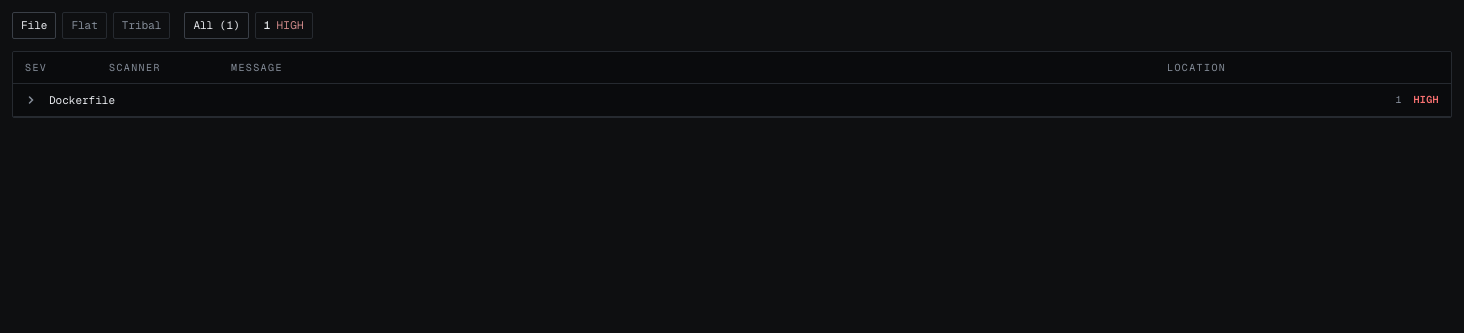
Test case: FindingsTable source context › explains file-scoped tribal findings
Step 1. Click the button "Dockerfile 1 HIGH" → {"x": 82, "y": 100}, box [13,84,1451,117]
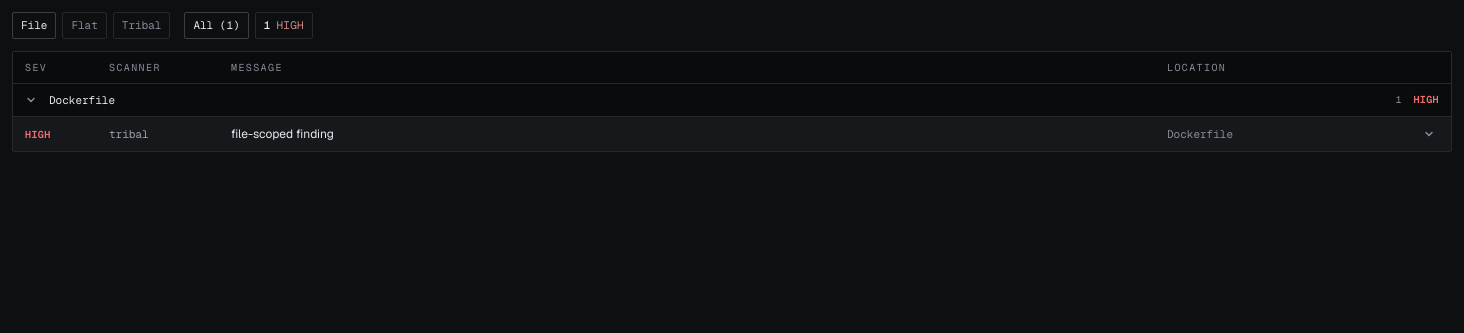
Step 2. Click the button "HIGH tribal file-scoped finding Dockerfile" → {"x": 129, "y": 134}, box [13,117,1451,151]
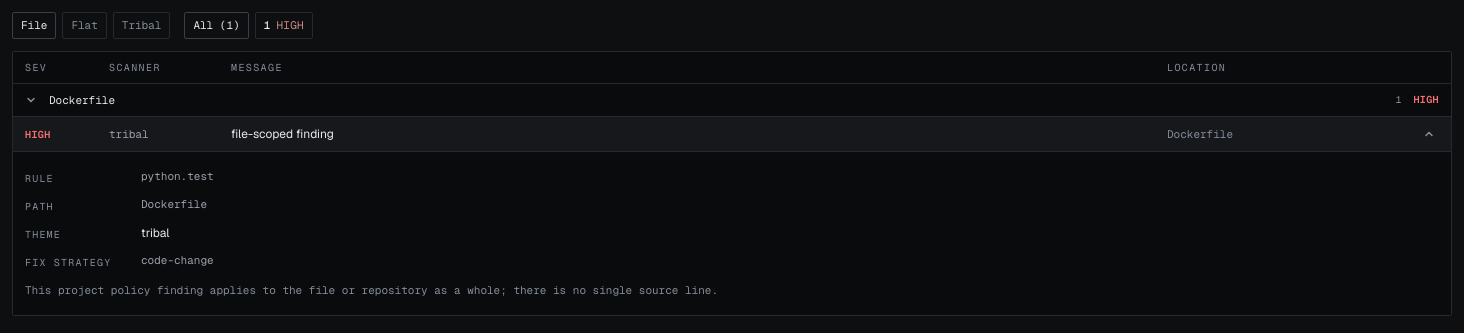
Check: the text "This project policy finding applies to the file or repository as a whole; there is no single source line." is shown, box [25,283,718,297]
